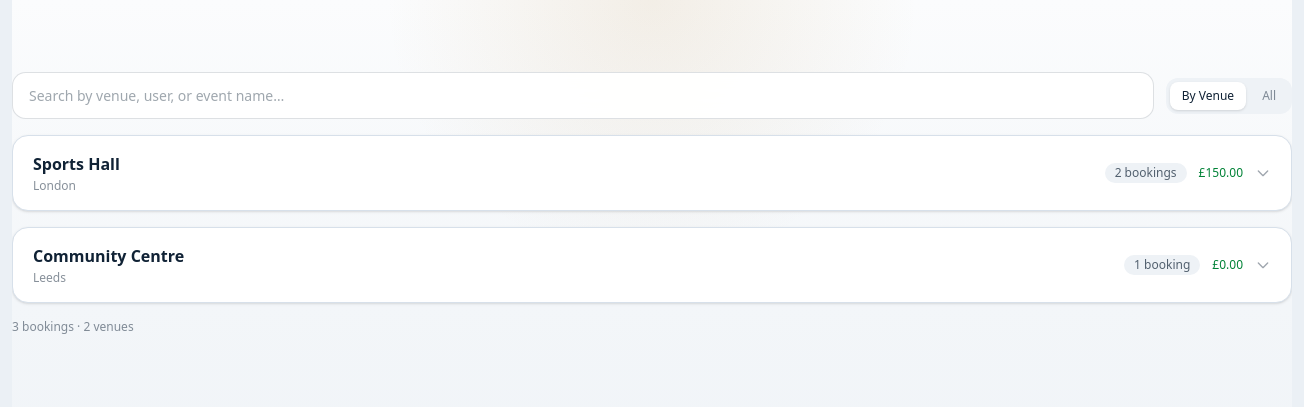
Scenario: VenuesTab › switches to the flat 'All' view showing a sortable table
Click the button "All".
click(1269, 96)  # box [1250, 82, 1288, 110]
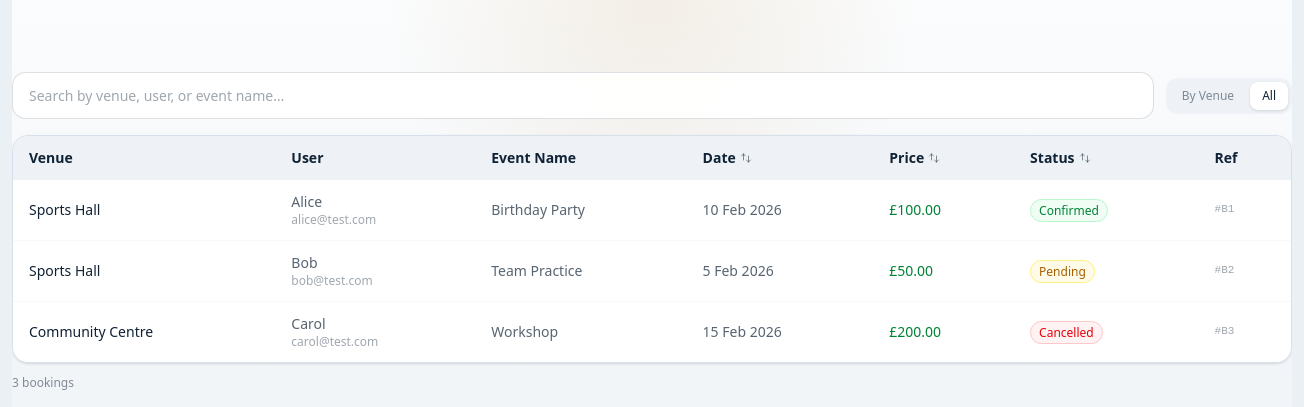
Result: the text "Birthday Party" is shown at [475, 180, 687, 240]
Result: the text "Team Practice" is shown at [475, 240, 687, 302]
Result: the text "Workshop" is shown at [475, 302, 687, 362]
